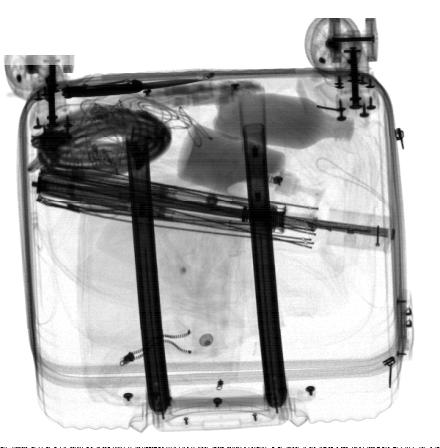Knife: (62, 79, 202, 100)
